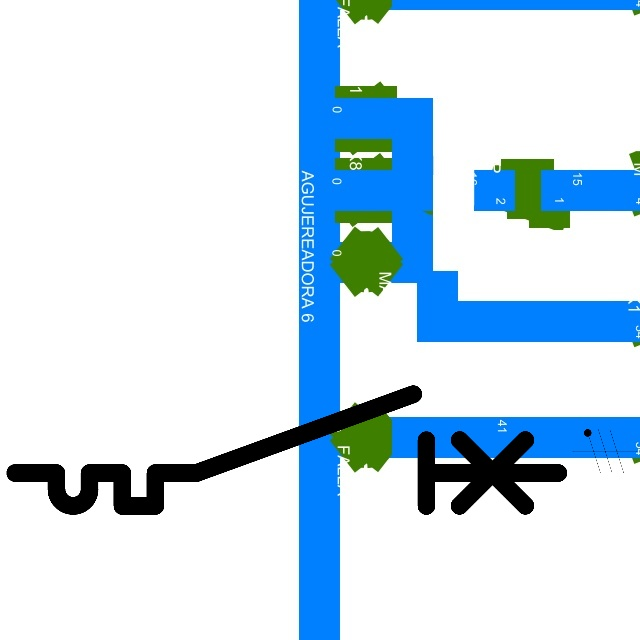interruptor_termomagnetico: (1, 380, 572, 520)
